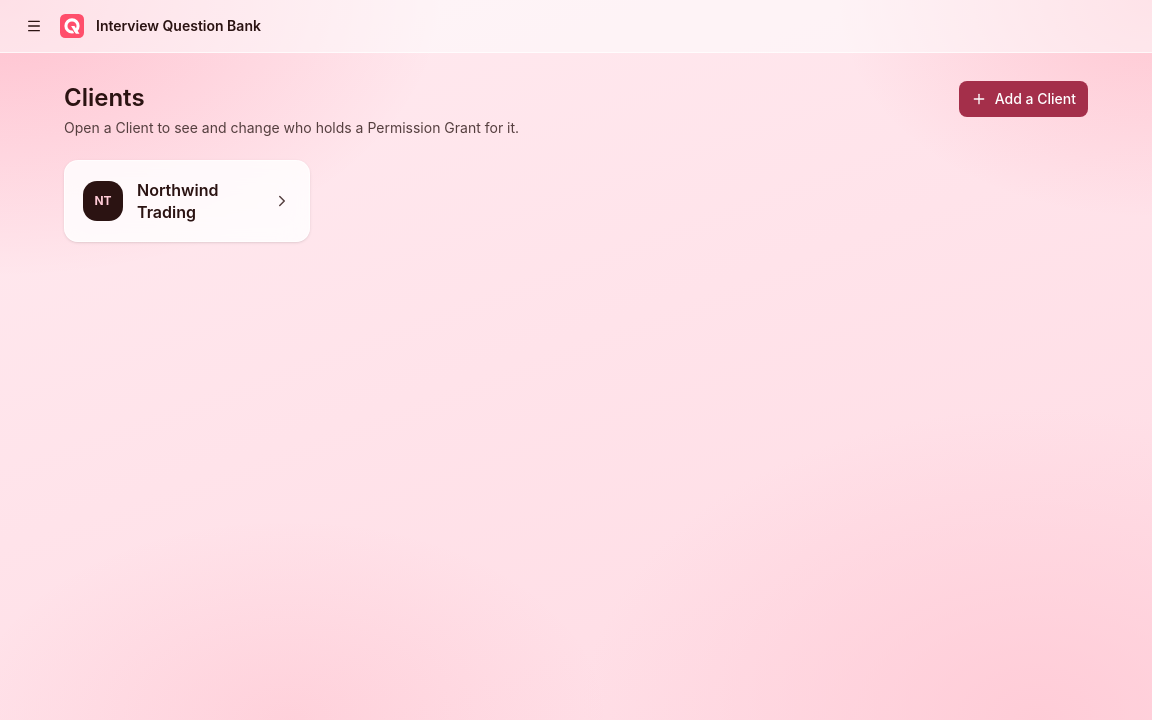
it: creating a Client from the administration console › sends the name typed, trimmed, and lists the new Client
The width and height of the screenshot is (1152, 720).
Check: the heading "Clients" is shown, box [64,83,145,112]
Click the button "Add a Client" at [1023, 99], box [959,81,1088,117]
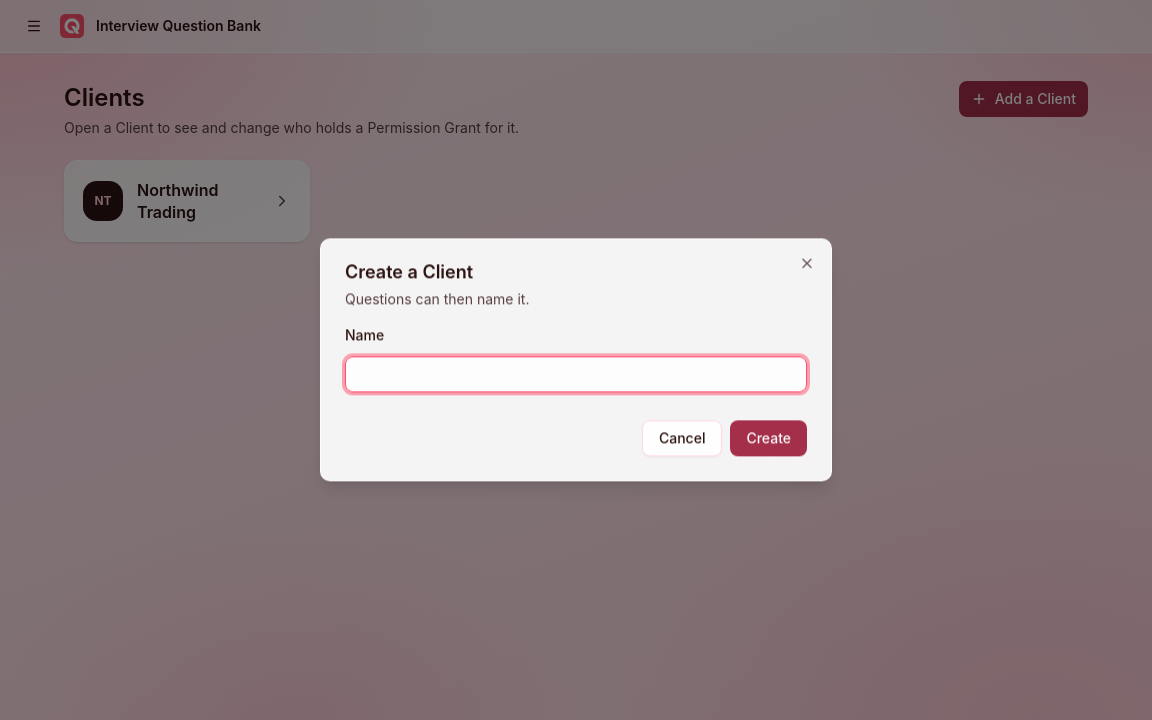
Type "  Kingsbridge Health " into the field labelled "Name" at [576, 375], box [345,357,807,393]
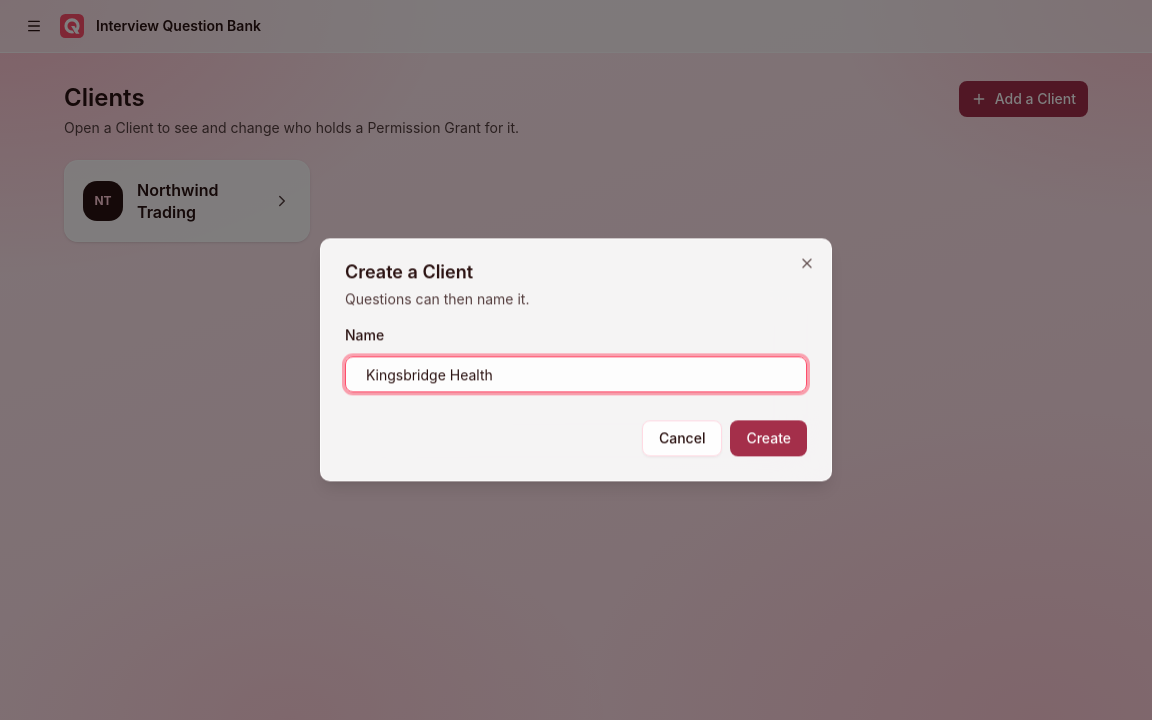
Click the button "Create" at [769, 439], box [730,421,807,457]
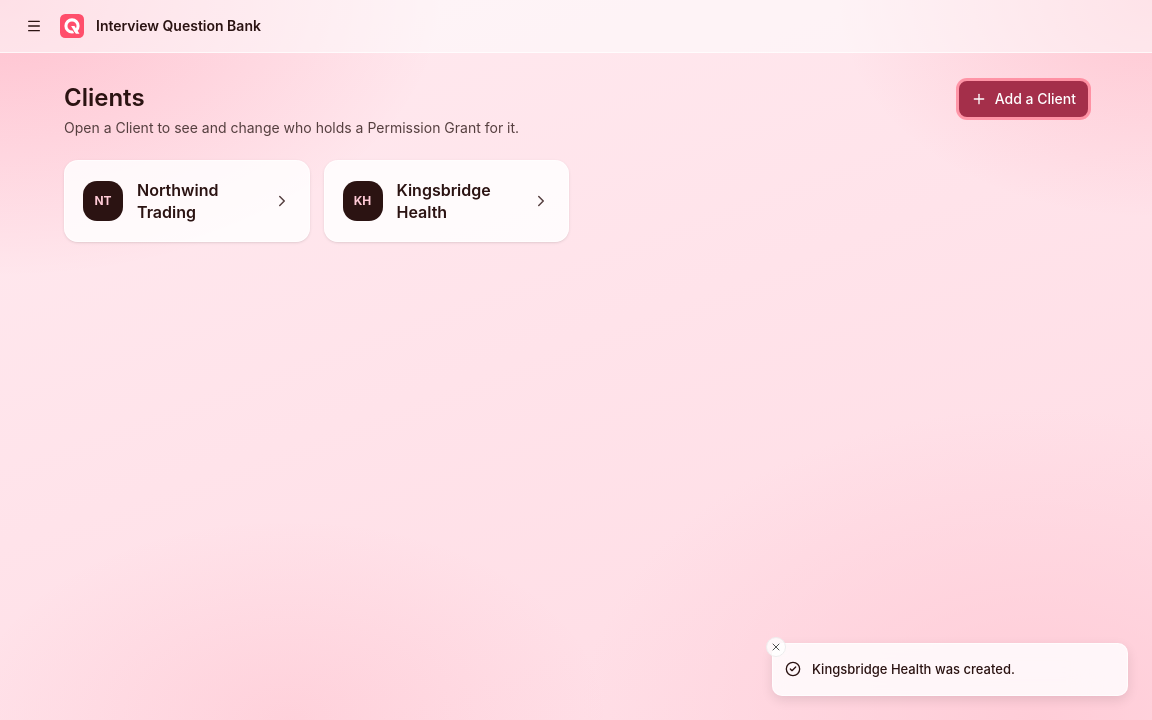
Check: the text "Kingsbridge Health was created." is shown once, box [812,660,1015,679]
Check: the heading "Create a Client" is gone
Check: the link "Kingsbridge Health" is shown, box [396,180,491,222]
